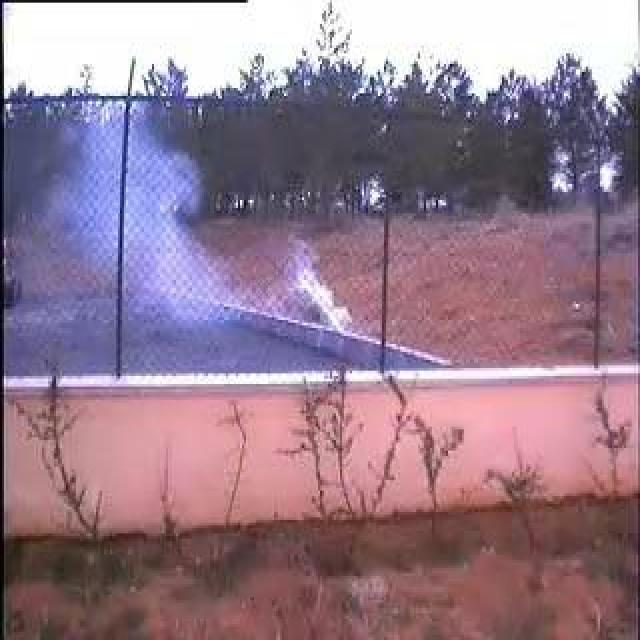Smoke: (76, 96, 260, 315)
